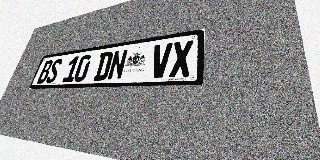0: (73, 54, 92, 82)
1: (62, 56, 81, 82)
B: (36, 60, 54, 84)
D: (93, 51, 114, 81)
N: (107, 49, 128, 80)
S: (45, 58, 63, 83)
V: (149, 43, 173, 78)
X: (169, 40, 193, 77)
